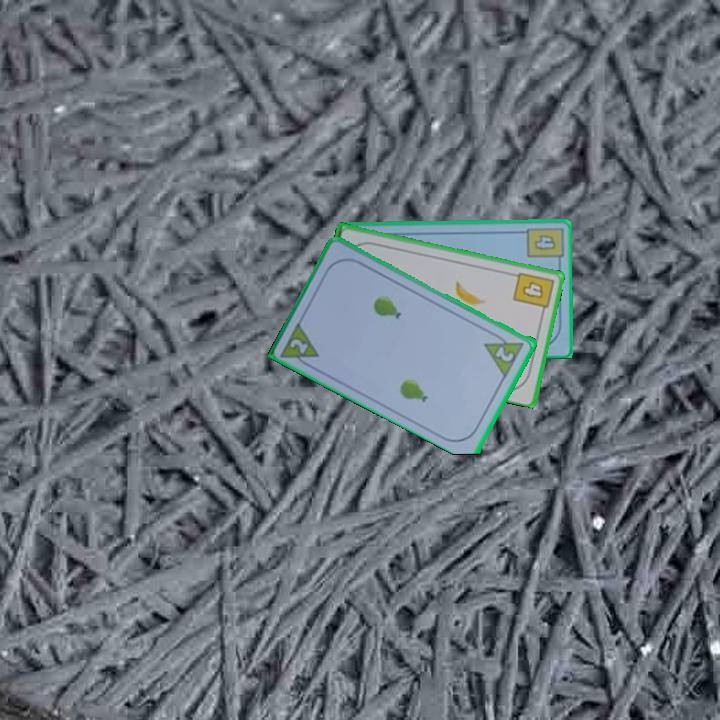2p: (481, 328, 528, 379), (286, 335, 311, 357)
4b: (509, 268, 557, 317), (522, 224, 565, 267)
